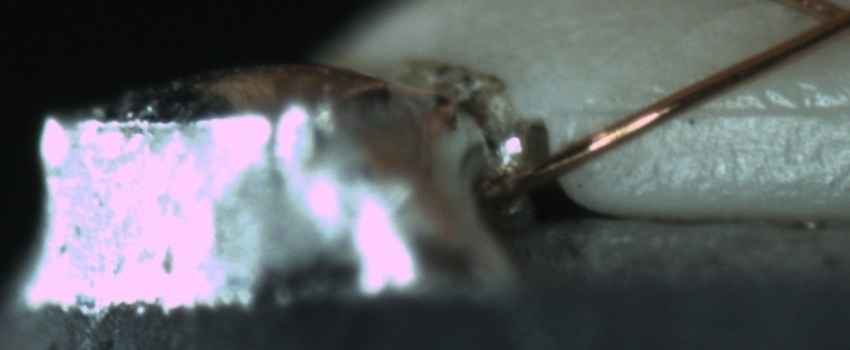DL: (602, 78, 848, 144)
